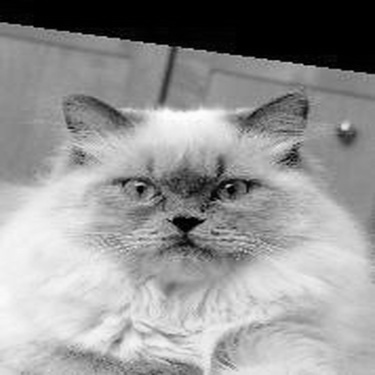cat: (6, 83, 369, 364)
